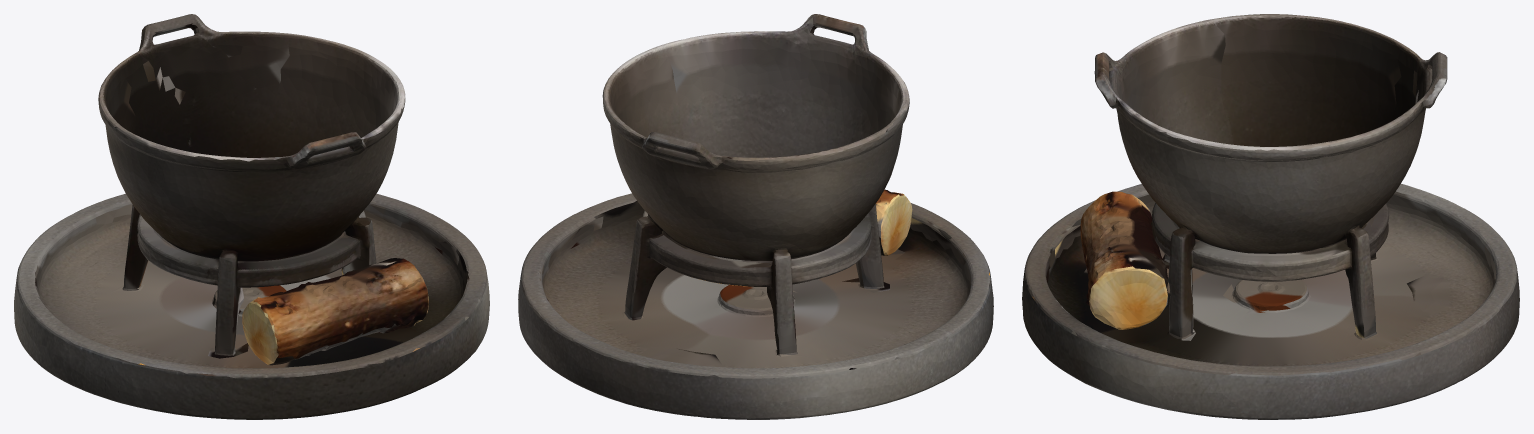
Rendered from traveler_env_coast_iuchi_siege_field_hearth_00001_.glb.
3 renders of one model, left to right at view 1: azimuth 30°, elevation 25°; view 2: azimuth 150°, elevation 25°; view 3: azimuth 270°, elevation 25°, orthographic. The views are drawn at different scales.
Parts seen in each view (by area): view 1: temp_mesh.ply; view 2: temp_mesh.ply; view 3: temp_mesh.ply.
Part boxes in pixels (x1,y1,x2,y2): temp_mesh.ply: (14,14,489,419); temp_mesh.ply: (518,14,993,419); temp_mesh.ply: (1022,14,1519,419).
Bounding box in the file's own units: 1.97 × 1.12 × 1.97.
Materials: 1 (1 with a texture image).
